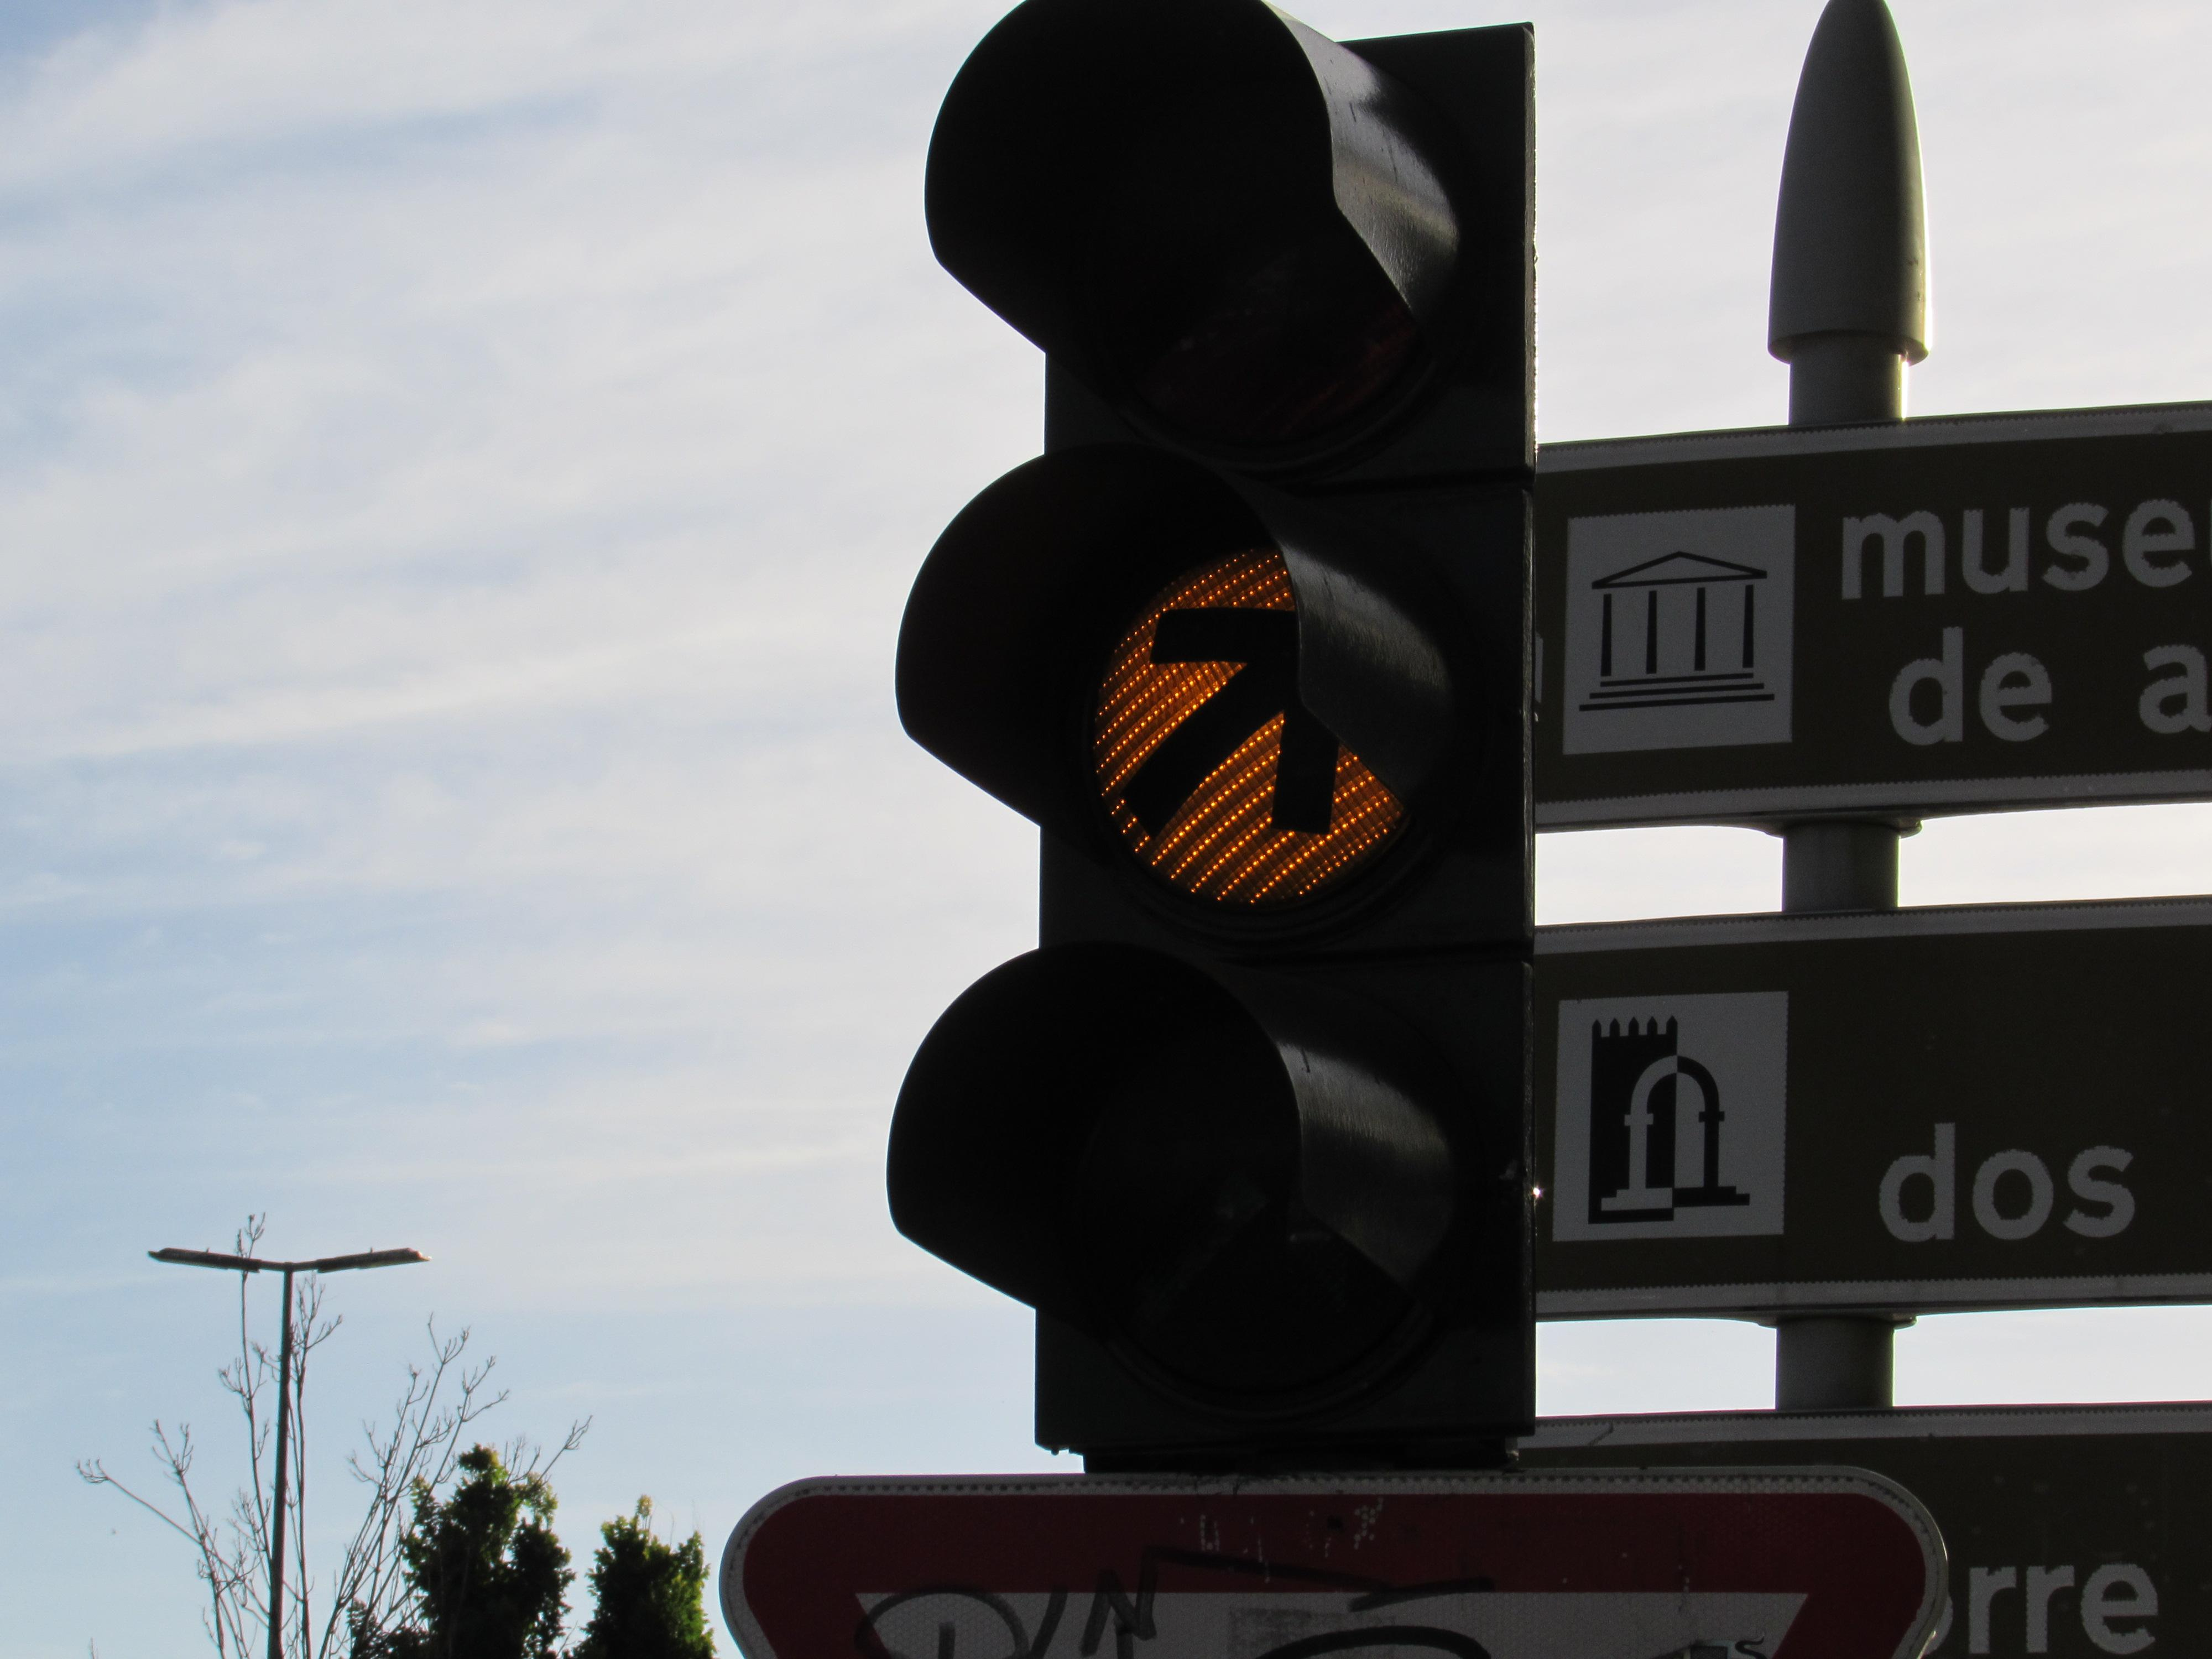yellow_light: (888, 0, 1538, 1446)
